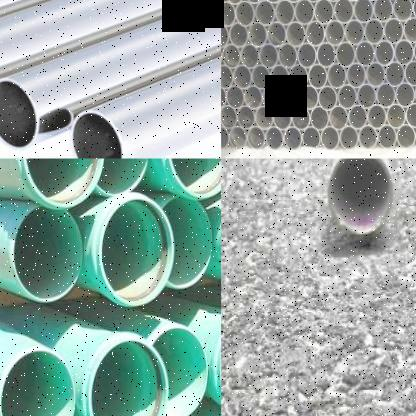pipe: (100, 198, 174, 306), (13, 206, 82, 302), (88, 337, 168, 416), (0, 348, 76, 416), (151, 327, 207, 416), (328, 159, 393, 235), (166, 197, 213, 289), (23, 159, 105, 207), (0, 76, 37, 150), (70, 109, 122, 159), (167, 158, 221, 199), (96, 158, 148, 196), (384, 17, 404, 45), (345, 18, 365, 46), (286, 20, 306, 48), (364, 18, 384, 45), (306, 20, 326, 47), (356, 40, 376, 67), (385, 60, 405, 87), (316, 41, 336, 68), (248, 21, 268, 48), (396, 81, 416, 108), (240, 42, 260, 69), (338, 83, 358, 110), (386, 102, 406, 129), (259, 42, 279, 69), (278, 42, 298, 69), (374, 39, 394, 66), (327, 62, 347, 89), (235, 0, 255, 26), (325, 20, 345, 46), (366, 61, 386, 87), (394, 39, 414, 65), (297, 42, 317, 68), (346, 62, 366, 88), (336, 41, 356, 67), (267, 21, 287, 47), (376, 82, 396, 108), (357, 83, 377, 109), (229, 22, 249, 48), (274, 0, 294, 25), (396, 124, 416, 149), (256, 0, 276, 25), (289, 63, 309, 88), (329, 105, 349, 130), (308, 63, 328, 88), (272, 105, 292, 130), (318, 85, 338, 110), (252, 63, 270, 90), (294, 0, 314, 24), (320, 126, 340, 150), (358, 125, 378, 149), (367, 104, 387, 128), (314, 0, 334, 24), (340, 125, 359, 150), (349, 104, 368, 129), (281, 85, 300, 110), (270, 64, 289, 89), (262, 85, 281, 110), (222, 43, 240, 69), (244, 84, 262, 110), (227, 84, 245, 110), (353, 0, 374, 22), (334, 0, 354, 23), (247, 126, 266, 150), (265, 126, 284, 150), (310, 106, 329, 130), (378, 124, 396, 149), (234, 64, 252, 89), (292, 105, 310, 130), (230, 125, 248, 150), (255, 105, 273, 130), (300, 85, 318, 110), (372, 0, 392, 22), (237, 105, 255, 129), (302, 126, 320, 150), (284, 126, 302, 150), (393, 0, 413, 21), (221, 104, 237, 129), (221, 0, 236, 26), (403, 16, 416, 43), (404, 59, 416, 86), (221, 63, 233, 88), (405, 102, 416, 127), (221, 124, 229, 150), (221, 22, 229, 48), (221, 84, 227, 108), (412, 0, 416, 21), (413, 38, 416, 65), (414, 81, 416, 106), (415, 122, 416, 148)
